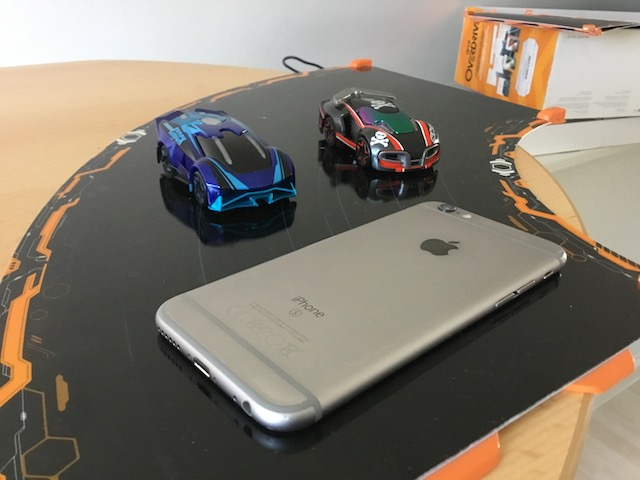car-blue: (151, 101, 301, 215)
car-red: (316, 85, 444, 177)
phone: (151, 198, 570, 439)
